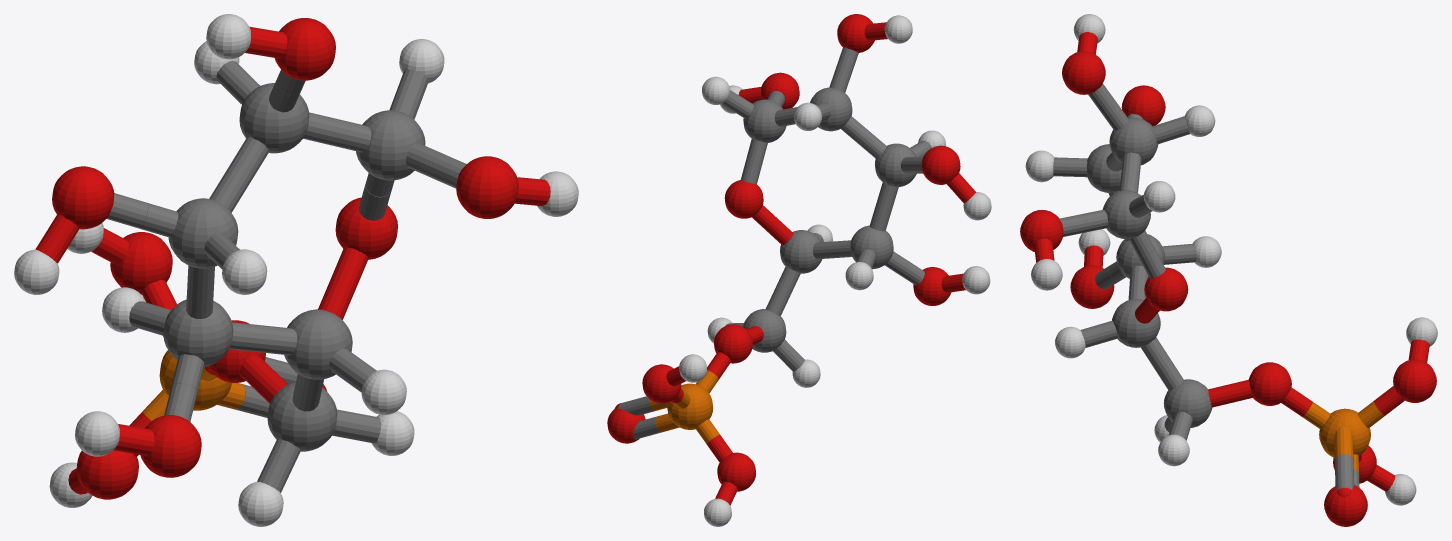
File: Glucose6-phosphate_wrl_3.obj
The picture shows the model from 3 angles, left to right: view 1: azimuth 30°, elevation 25°; view 2: azimuth 150°, elevation 25°; view 3: azimuth 270°, elevation 25°; orthographic projection. The views are drawn at different scales.
Visible parts, largest first — view 1: _4Sphere.004__4Sphere, _4Sphere.002__4Sphere, _4Sphere, _2Sphere.004__2Sphere, _4Sphere.003__4Sphere, _4Sphere.001__4Sphere, _4Sphere.005__4Sphere, _2Sphere.002__2Sphere, _2Sphere.003__2Sphere, _2Sphere.001__2Sphere, _2Sphere.006__2Sphere, _2Sphere.007__2Sphere (+39 smaller); view 2: _0Sphere, _4Sphere.002__4Sphere, _4Sphere.004__4Sphere, _4Sphere.001__4Sphere, _2Sphere.002__2Sphere, _4Sphere, _4Sphere.005__4Sphere, _2Sphere, _4Sphere.003__4Sphere, _2Sphere.005__2Sphere, _2Sphere.007__2Sphere, _2Sphere.006__2Sphere (+18 smaller); view 3: _4Sphere.005__4Sphere, _4Sphere.003__4Sphere, _2Sphere.003__2Sphere, _2Sphere.006__2Sphere, _4Sphere.002__4Sphere, _4Sphere.004__4Sphere, _2Sphere.005__2Sphere, _0Sphere, _2Sphere, _2Sphere.008__2Sphere, _2Sphere.004__2Sphere, _2Sphere.001__2Sphere (+23 smaller).
Part boxes in pixels (<box>): _4Sphere.004__4Sphere: <box>356,110,425,180</box>; _4Sphere.002__4Sphere: <box>284,309,352,379</box>; _4Sphere: <box>163,299,233,366</box>; _2Sphere.004__2Sphere: <box>456,156,518,218</box>; _4Sphere.003__4Sphere: <box>239,83,309,153</box>; _4Sphere.001__4Sphere: <box>168,198,238,268</box>; _4Sphere.005__4Sphere: <box>267,382,337,451</box>; _2Sphere.002__2Sphere: <box>52,166,114,229</box>; _2Sphere.003__2Sphere: <box>274,18,335,80</box>; _2Sphere.001__2Sphere: <box>140,415,201,477</box>; _2Sphere.006__2Sphere: <box>110,232,172,294</box>; _2Sphere.007__2Sphere: <box>76,450,138,499</box>; _0Sphere: <box>667,383,713,429</box>; _4Sphere.002__4Sphere: <box>780,230,822,273</box>; _4Sphere.004__4Sphere: <box>743,99,786,142</box>; _4Sphere.001__4Sphere: <box>875,143,916,187</box>; _2Sphere.002__2Sphere: <box>921,145,960,184</box>; _4Sphere: <box>850,225,893,269</box>; _4Sphere.005__4Sphere: <box>743,309,786,352</box>; _2Sphere: <box>724,180,763,218</box>; _4Sphere.003__4Sphere: <box>810,87,852,131</box>; _2Sphere.005__2Sphere: <box>714,324,752,363</box>; _2Sphere.007__2Sphere: <box>717,452,756,491</box>; _2Sphere.006__2Sphere: <box>642,364,681,403</box>; _4Sphere.005__4Sphere: <box>1163,379,1212,427</box>; _4Sphere.003__4Sphere: <box>1109,117,1158,165</box>; _2Sphere.003__2Sphere: <box>1062,51,1105,94</box>; _2Sphere.006__2Sphere: <box>1393,359,1436,402</box>; _4Sphere.002__4Sphere: <box>1112,299,1160,347</box>; _4Sphere.004__4Sphere: <box>1102,190,1150,239</box>; _2Sphere.005__2Sphere: <box>1248,362,1291,405</box>; _0Sphere: <box>1319,408,1370,458</box>; _2Sphere: <box>1144,267,1188,311</box>; _2Sphere.008__2Sphere: <box>1324,485,1367,526</box>; _2Sphere.004__2Sphere: <box>1020,210,1063,252</box>; _2Sphere.001__2Sphere: <box>1070,265,1114,308</box>.
Size of the model in its own units: 6.34 by 8.19 by 6.66.
